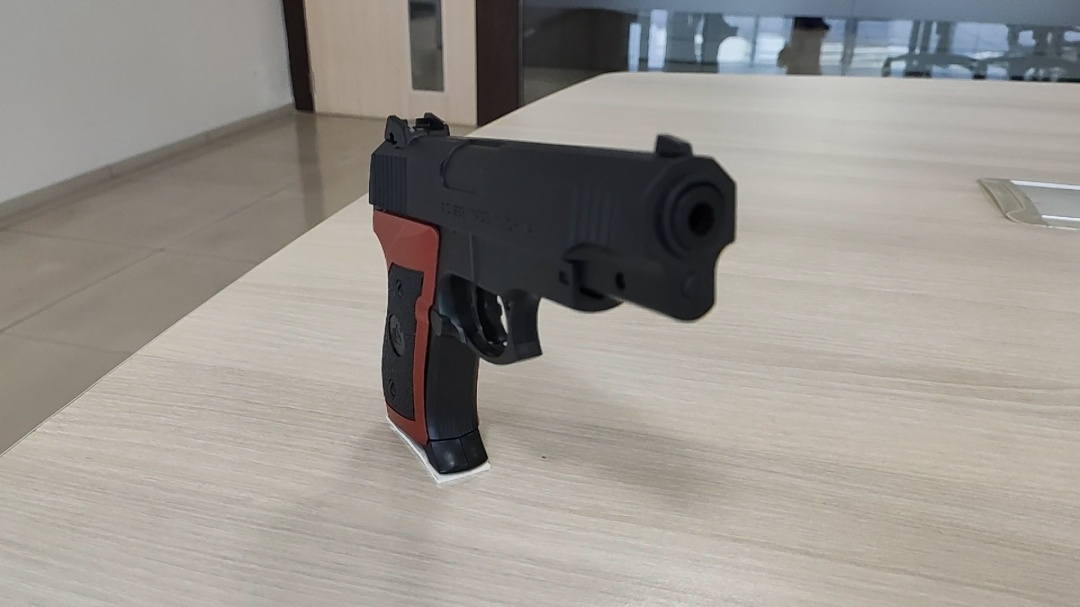gun: (365, 111, 742, 479)
